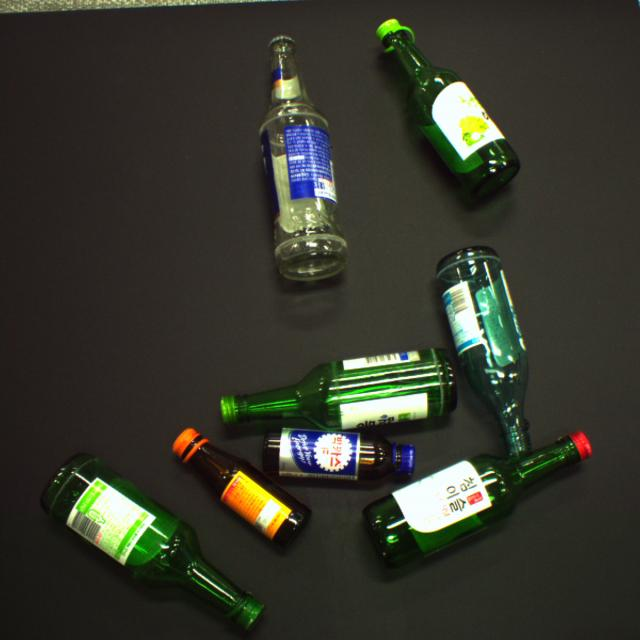beer-bottle: (258, 36, 348, 281)
soju-bottle: (40, 454, 266, 633), (361, 430, 592, 571), (375, 18, 521, 199), (436, 246, 533, 456), (220, 347, 458, 432)
